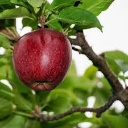apple: (10, 28, 72, 92)
